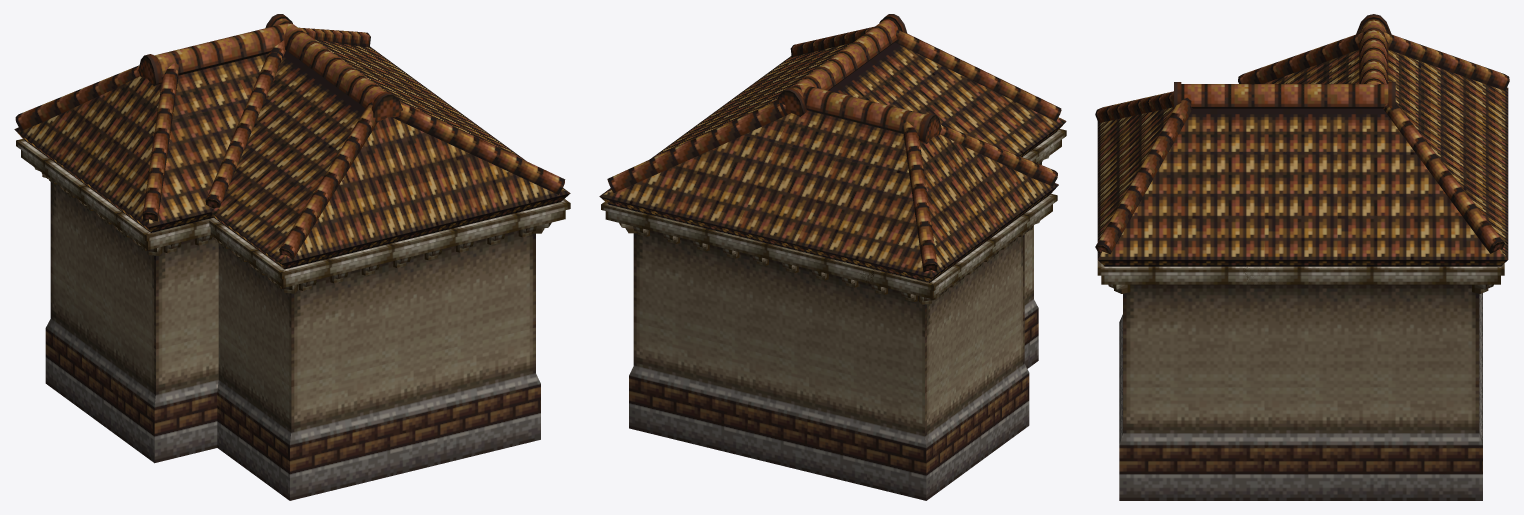
File: EnvBdgMD_Sea_A_Outdoor_House_C.FBX
The picture shows the model from 3 angles, left to right: view 1: azimuth 30°, elevation 25°; view 2: azimuth 150°, elevation 25°; view 3: azimuth 270°, elevation 25°; orthographic projection. The views are drawn at different scales.
Parts seen in each view (by area): view 1: EnvBdgMD_Sea_A_Outdoor_House_C; view 2: EnvBdgMD_Sea_A_Outdoor_House_C; view 3: EnvBdgMD_Sea_A_Outdoor_House_C.
Part boxes in pixels (box(x1,y1,x2,y2)): EnvBdgMD_Sea_A_Outdoor_House_C: box(14, 14, 570, 500); EnvBdgMD_Sea_A_Outdoor_House_C: box(599, 14, 1066, 500); EnvBdgMD_Sea_A_Outdoor_House_C: box(1095, 14, 1509, 500).
Bounding box in the file's own units: 563 × 541 × 570.
2 materials, 2 textured.
